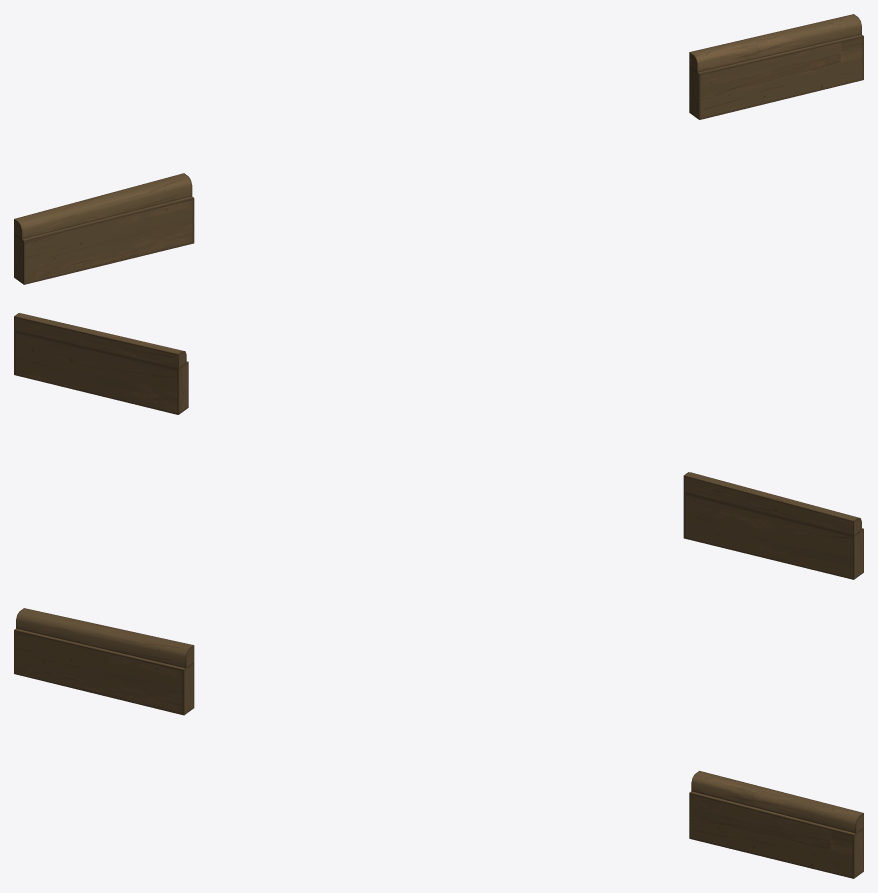
File: SM_plinth_04.glb
The picture shows the model from 3 angles, top to bottom: view 1: azimuth 30°, elevation 25°; view 2: azimuth 150°, elevation 25°; view 3: azimuth 330°, elevation 25°; orthographic projection.
Parts seen in each view (by area): view 1: SM_plinth_04; view 2: SM_plinth_04; view 3: SM_plinth_04.
Part boxes in pixels (x1,y1,x2,y2): SM_plinth_04: (14, 14, 863, 284); SM_plinth_04: (14, 313, 863, 579); SM_plinth_04: (14, 608, 863, 878).
Bounding box in the file's own units: 6 × 0.4298 × 0.1245.
Materials: 1 (1 with a texture image).
